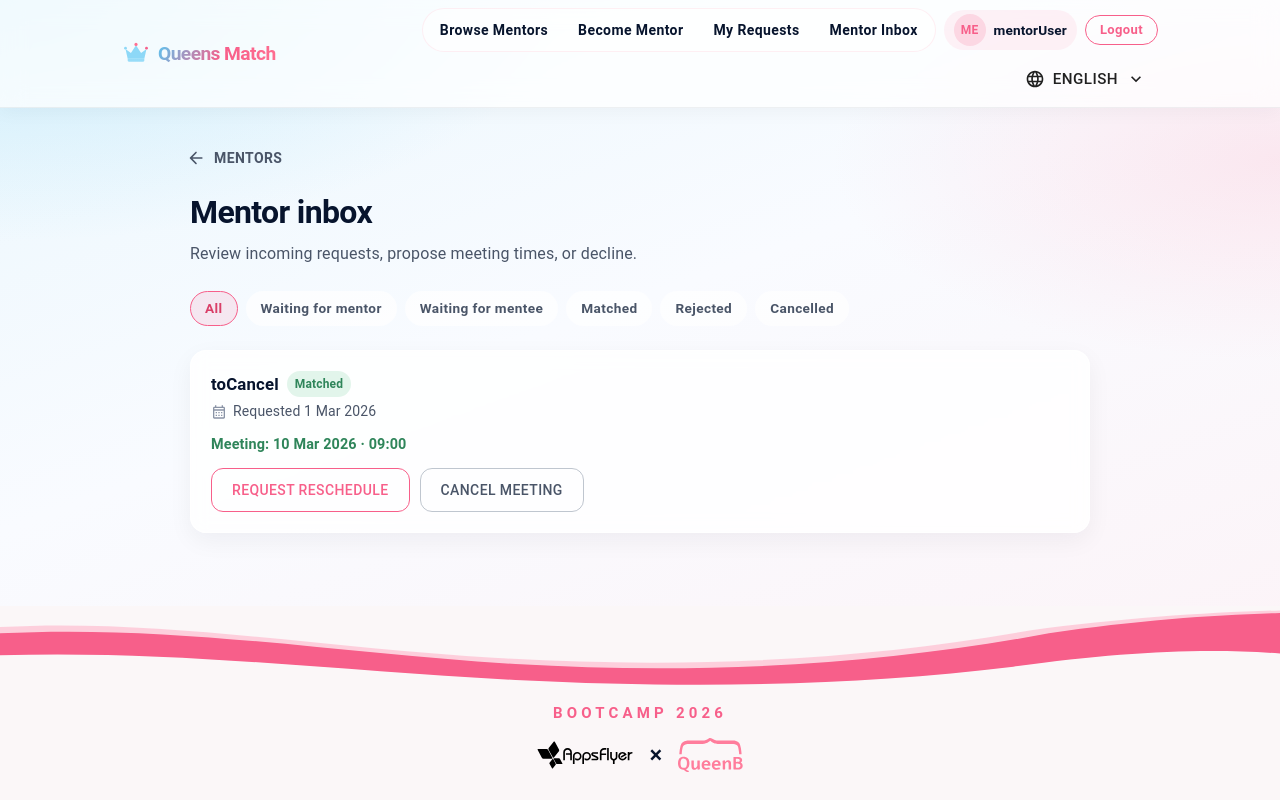
Test: MentorDashboardPage › cancel meeting confirm cancels and cancelled row has no propose/reject
Click the button "Cancel meeting": x=502, y=490 x1=420 y1=468 x2=584 y2=512
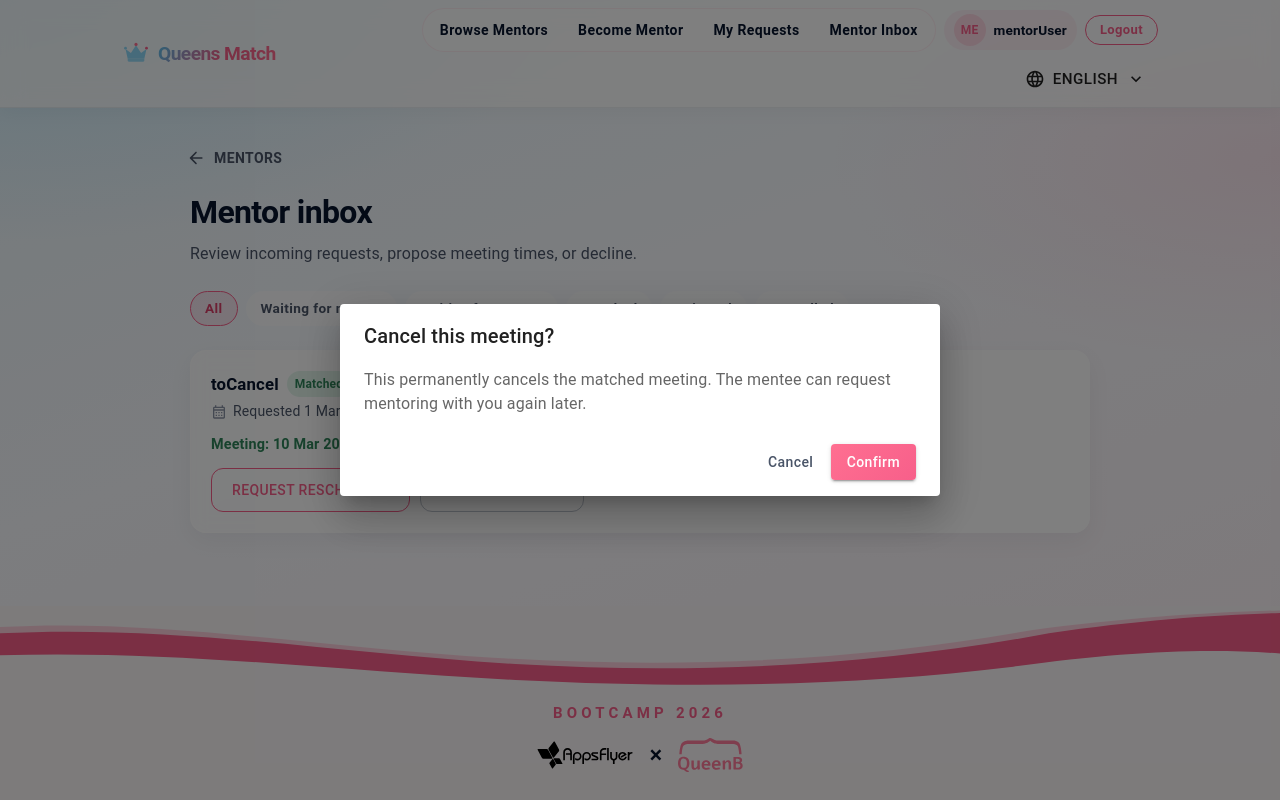
Click the button "Confirm": x=873, y=462 x1=831 y1=444 x2=916 y2=480
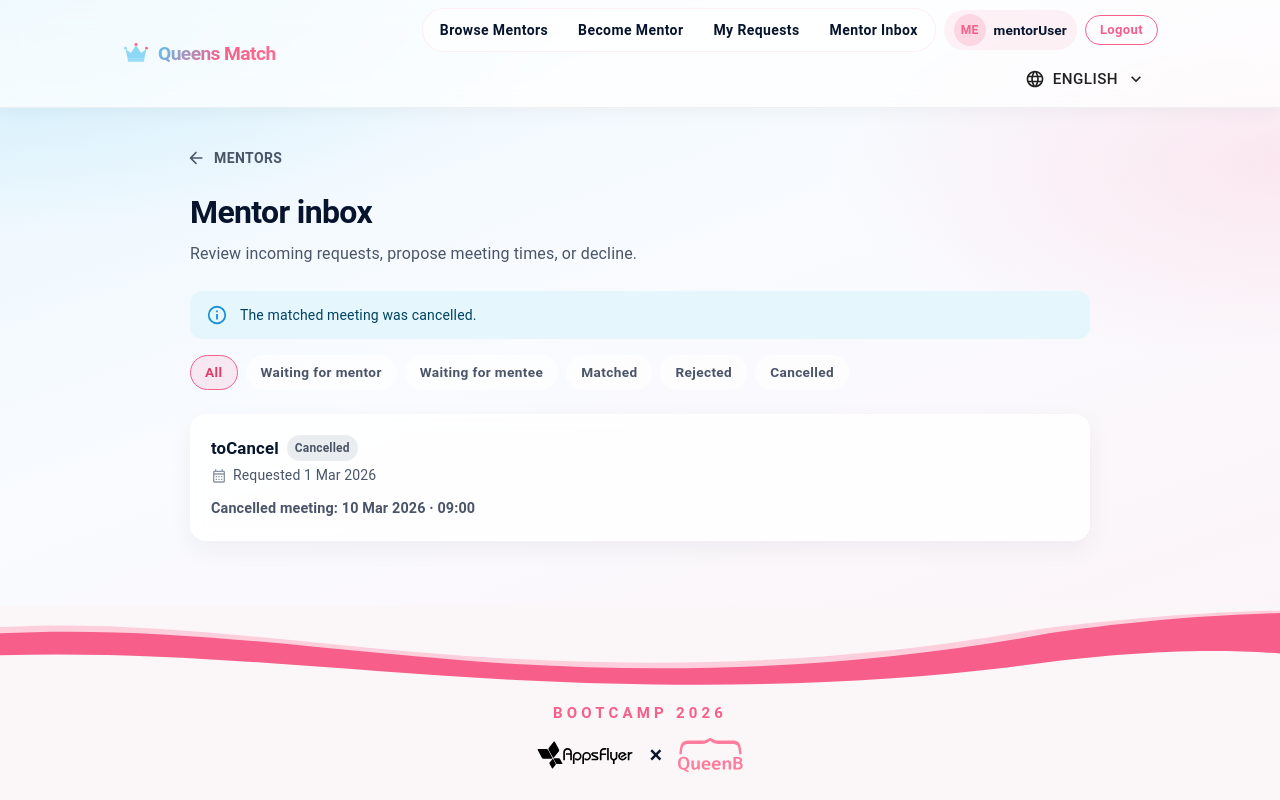
Expected: the text "The matched meeting was cancelled." is shown, x1=240 y1=307 x2=477 y2=323
Expected: the text "Cancelled meeting: 10 Mar 2026 · 09:00" is shown, x1=211 y1=500 x2=475 y2=517
